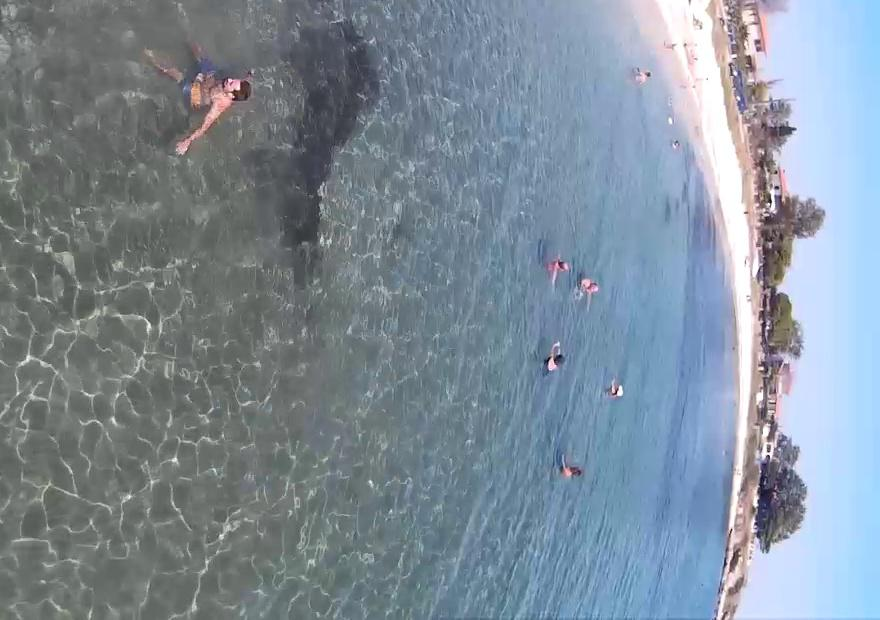swimmer: (148, 20, 260, 179), (534, 328, 574, 387), (552, 444, 598, 493), (576, 268, 610, 320), (539, 242, 567, 296), (605, 377, 626, 403)
